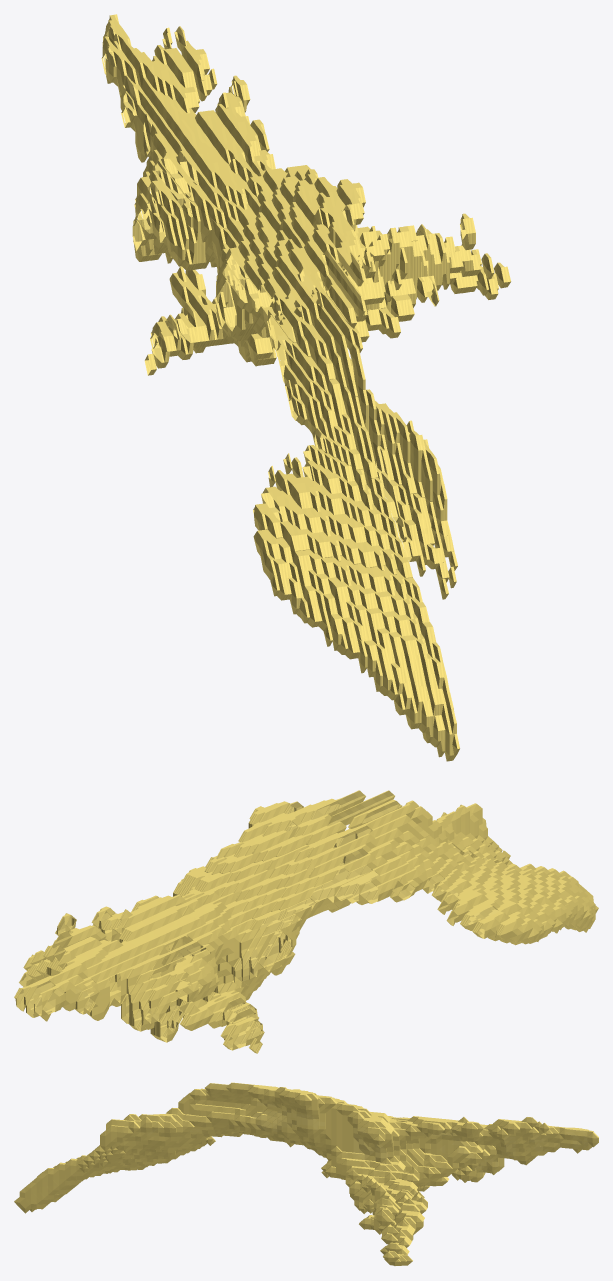
File: SVV_BWM-VR06.gltf
3 renders of one model, top to bottom at view 1: azimuth 30°, elevation 25°; view 2: azimuth 150°, elevation 25°; view 3: azimuth 270°, elevation 25°, orthographic. The views are drawn at different scales.
Parts seen in each view (by area): view 1: BWM-VR06; view 2: BWM-VR06; view 3: BWM-VR06.
Boxes of the visible parts, box(x1,y1,x2,y2) form: BWM-VR06: box(101, 14, 511, 761); BWM-VR06: box(14, 790, 598, 1053); BWM-VR06: box(14, 1082, 598, 1265).
Bounding box in the file's own units: 31019 × 20442 × 66210.
